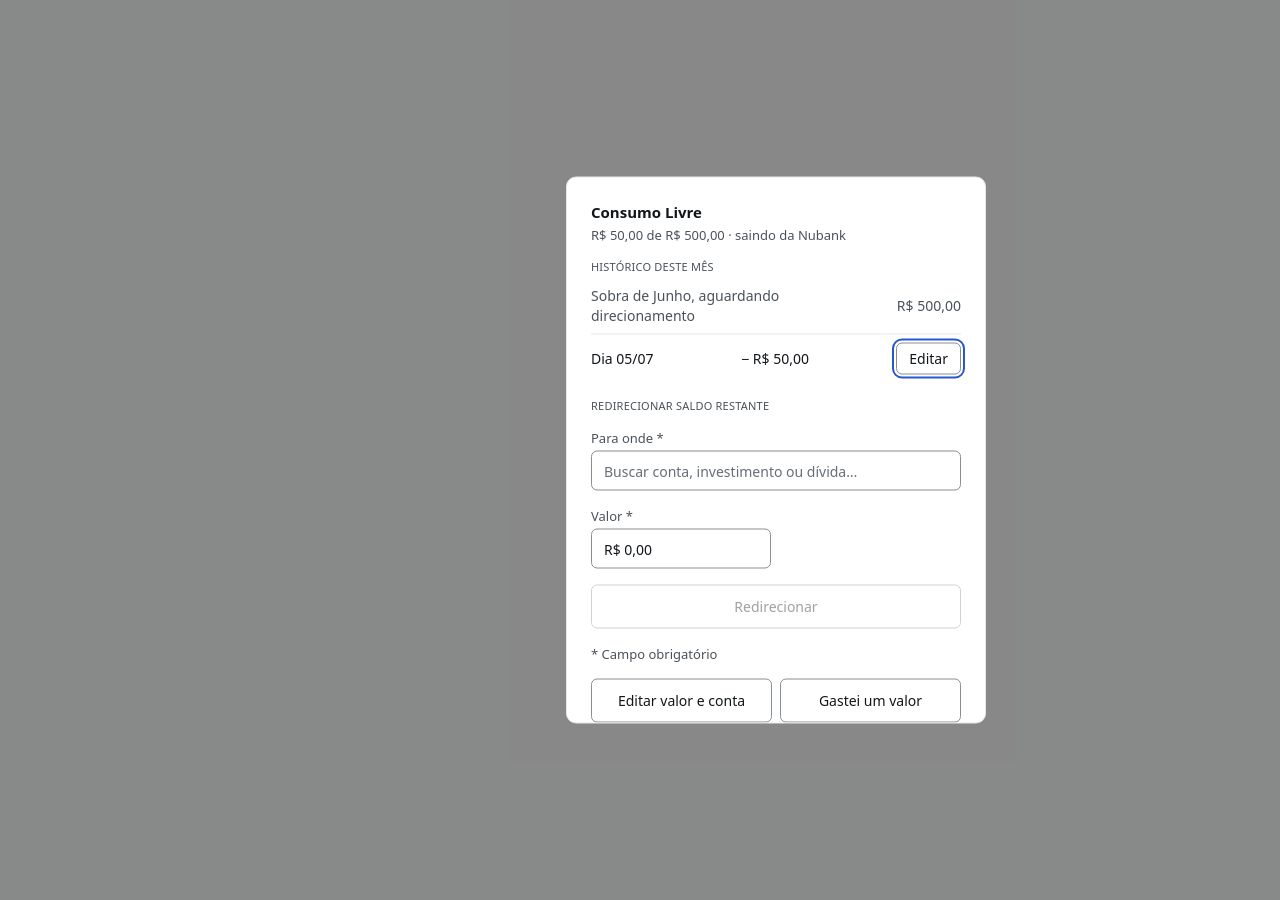
Detalhe do Consumo Livre — edição inline de um gasto (Figma 46:8, nós 46:26/46:28/46:33) › 164:7 + files_design/03 §146 — "Editar" oferece o Rótulo junto do Valor
The width and height of the screenshot is (1280, 900).
Click the button "Editar": (929, 358) [896,342,961,374]
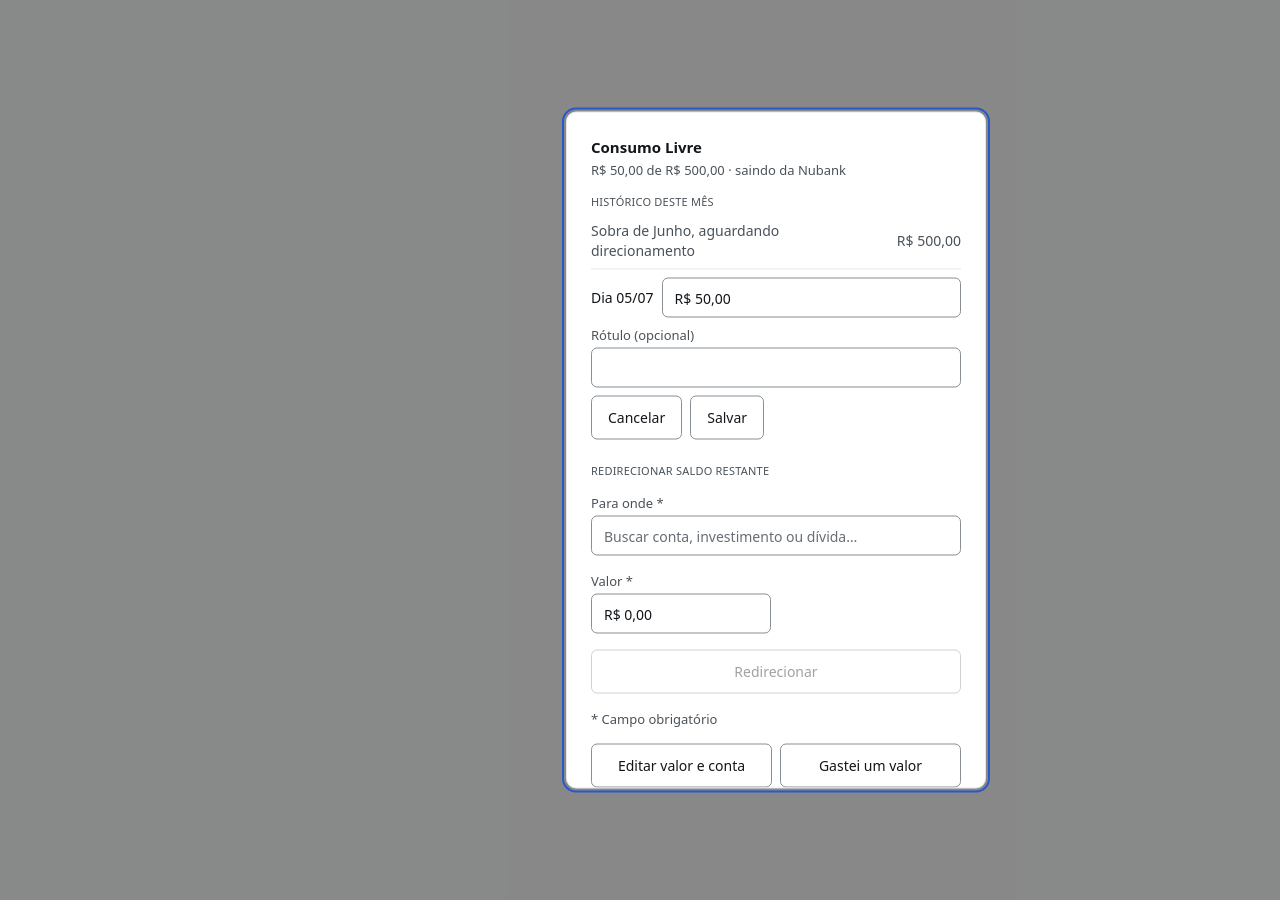
Now the field labelled "Rótulo (opcional)" is shown, box [591,348,961,388]
